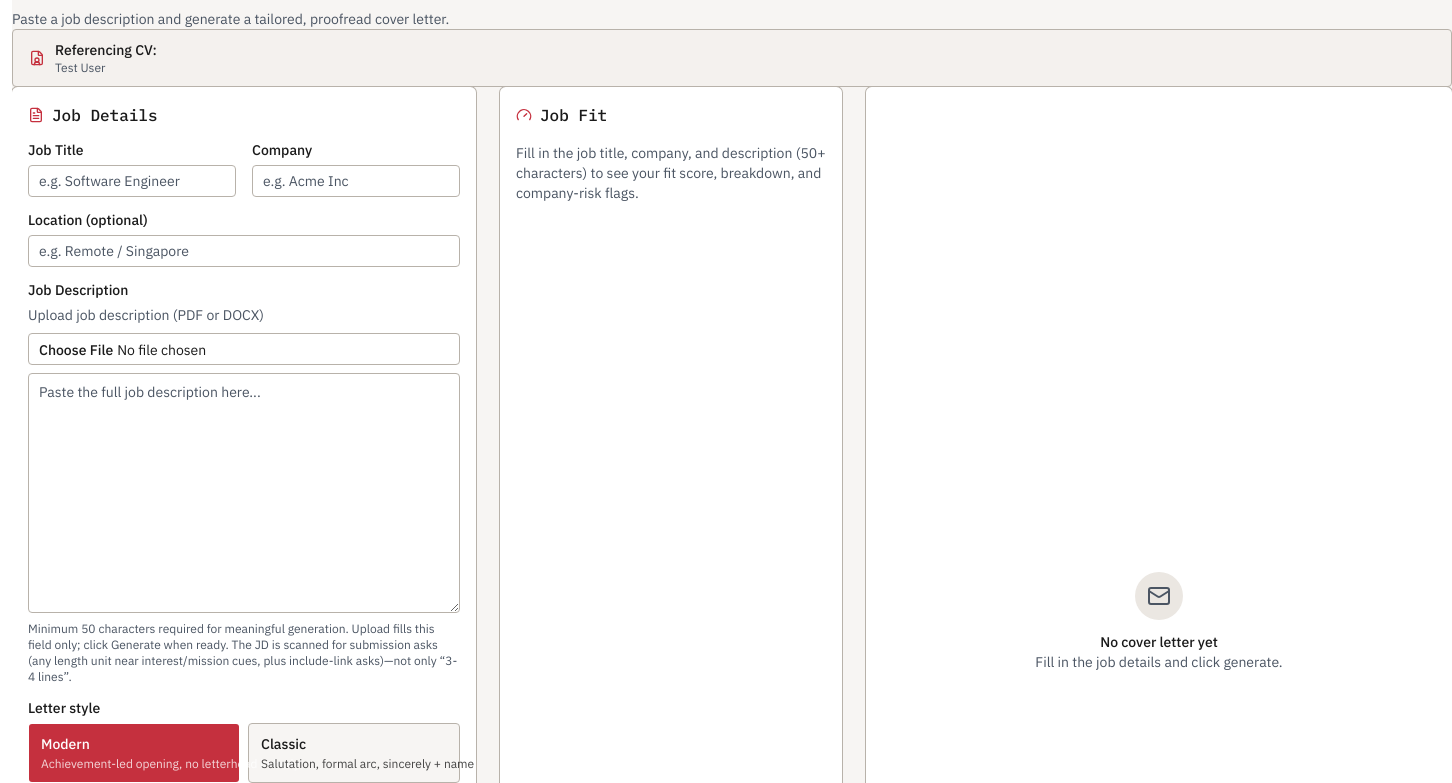
Test: CoverLetterPage › copies the generated cover letter to clipboard
Type "Senior Software Engineer" into the field labelled "Job Title". click: (132, 181)
box: [28,165,236,197]
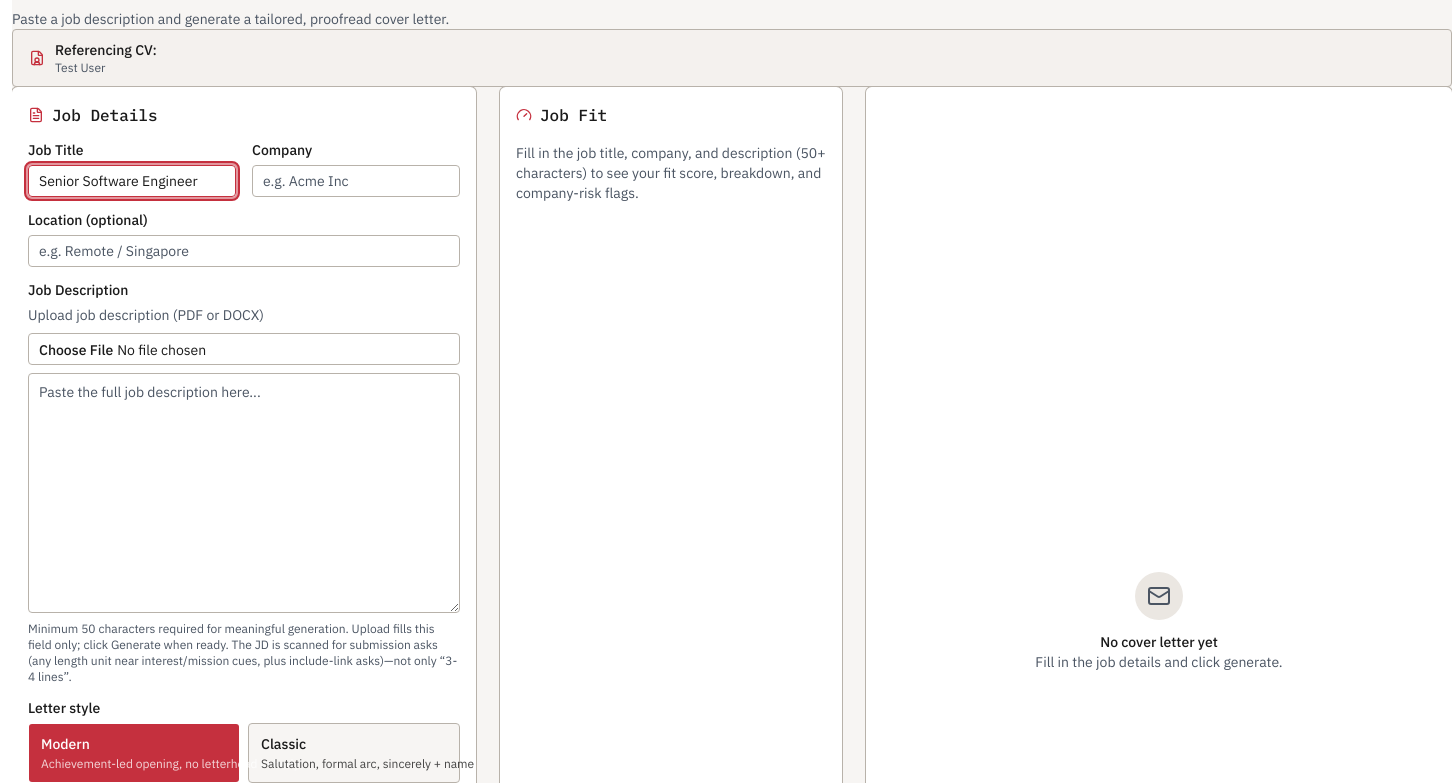
Type "Tech Innovations Inc" into the field labelled "Company". click: (356, 181)
box: [252,165,460,197]
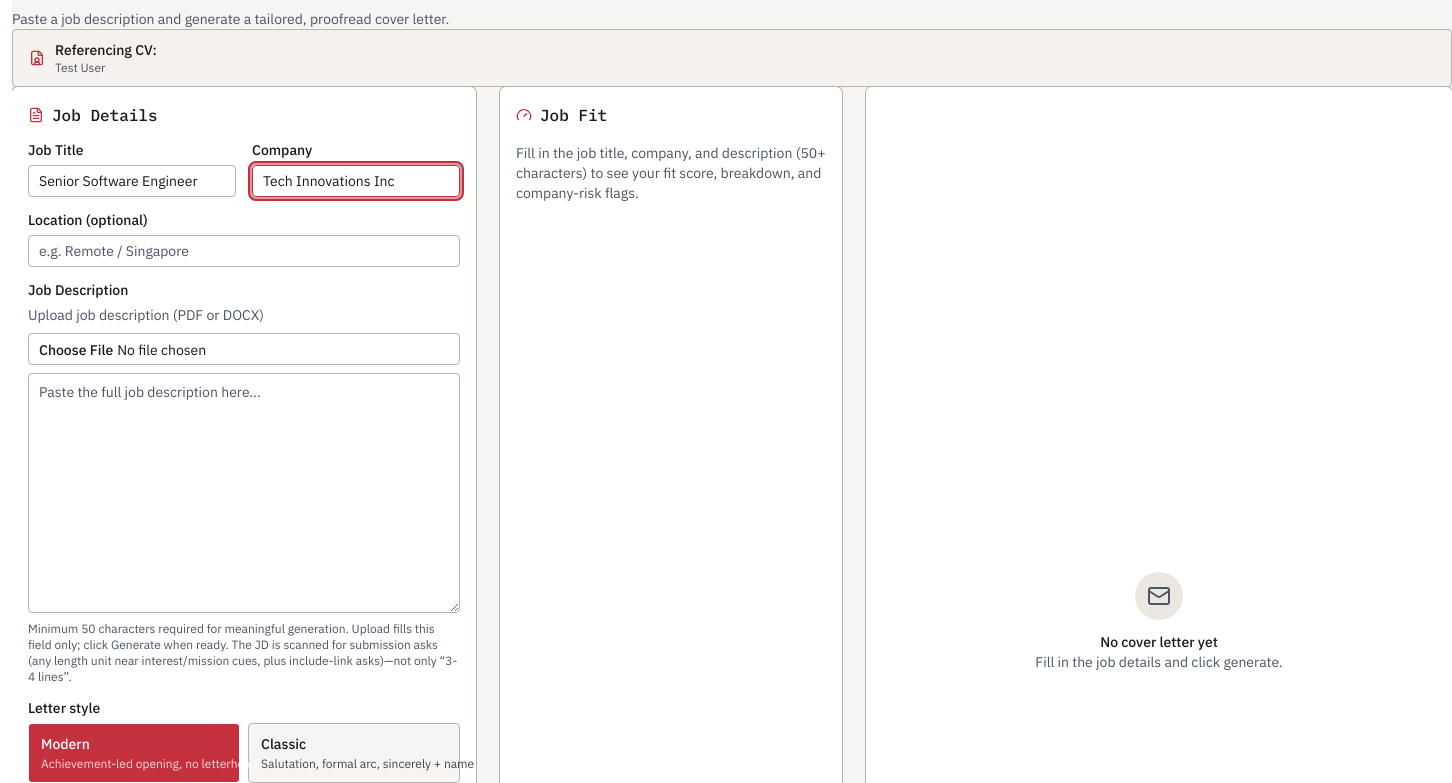
Type "We are seeking a talented Senior Software Engineer with React and TypeScript experience." into the text box labelled "Job Description". click: (244, 493)
box: [28,373,460,613]
(page scrolled)
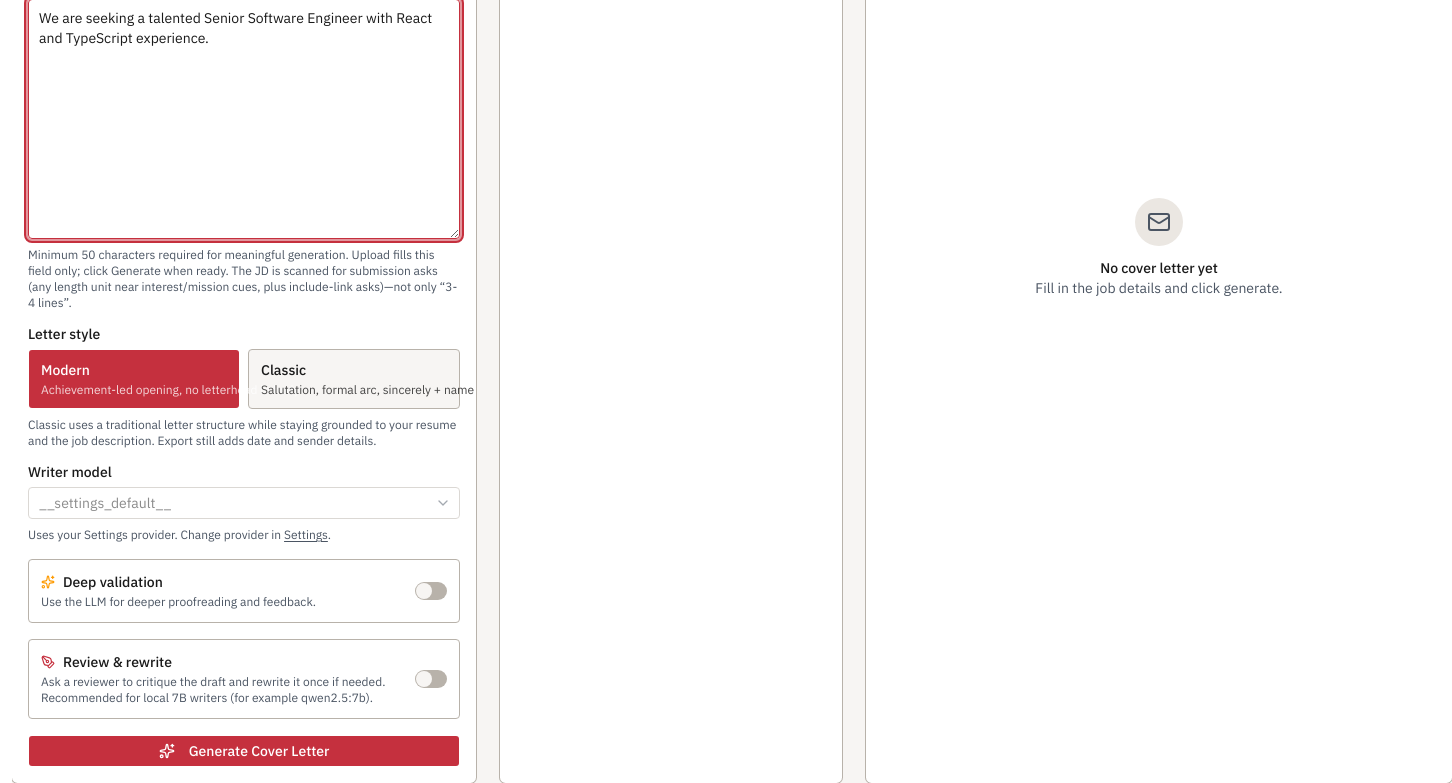
Click the button "Generate Cover Letter". click: (244, 751)
box: [28,735,460,767]
(page scrolled)
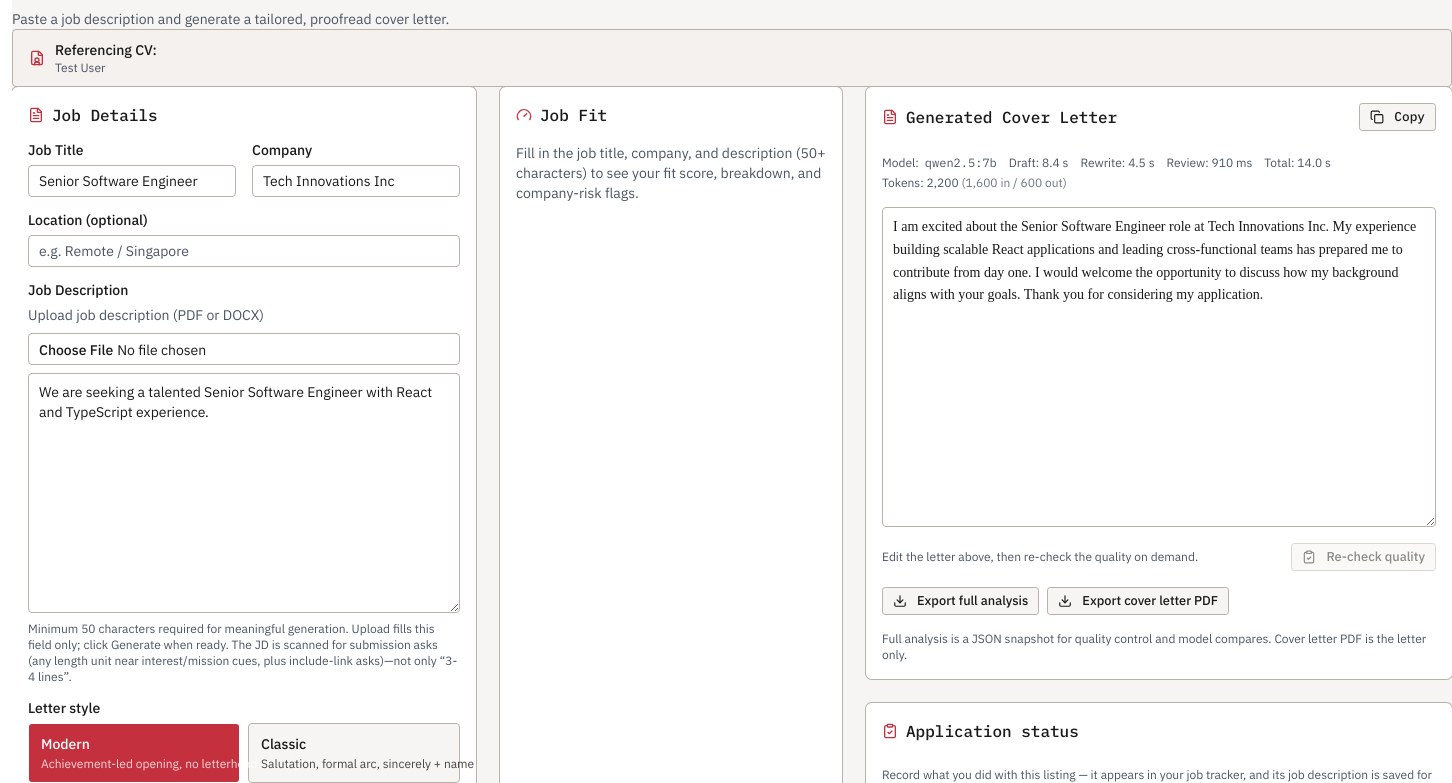
Click the button "Copy". click: (1398, 117)
box: [1359,103,1436,131]
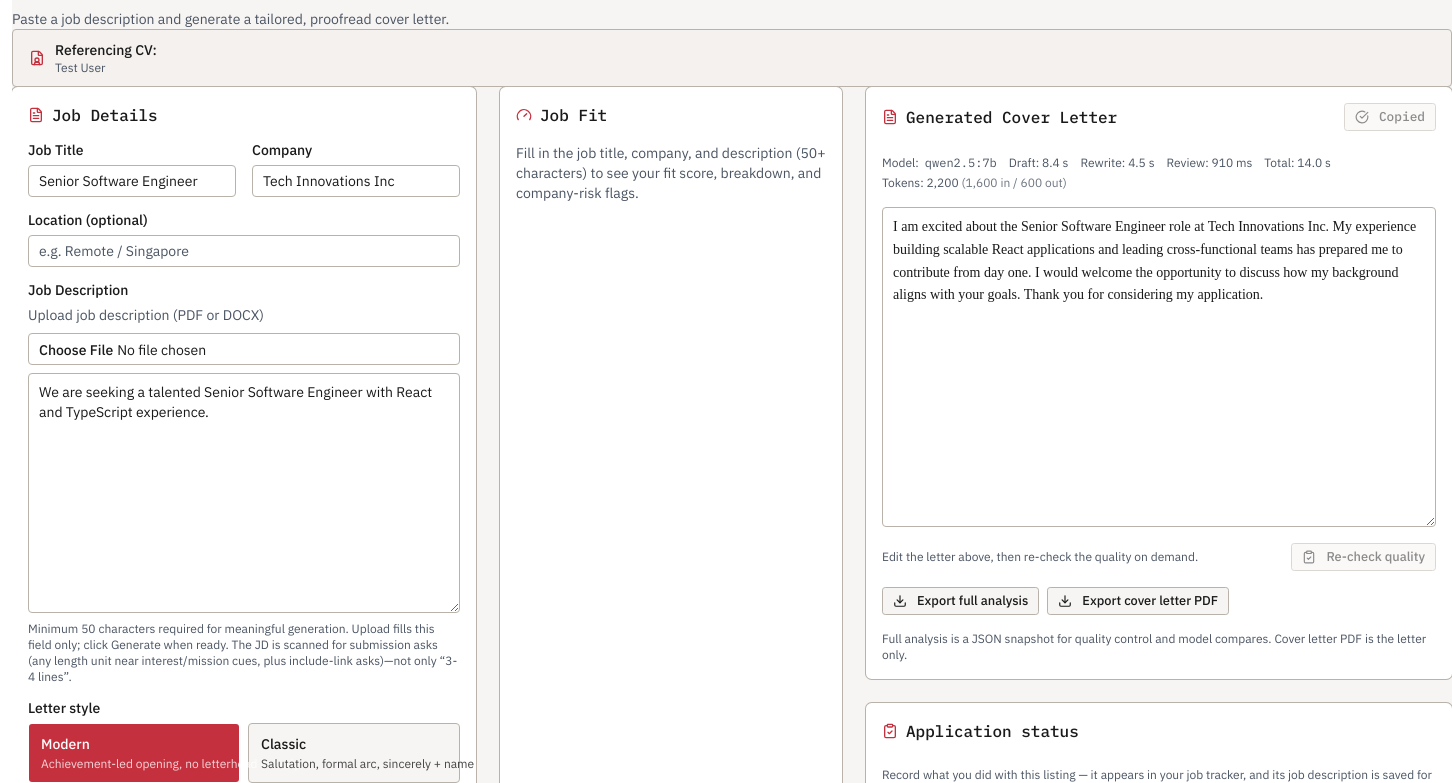
expect the button "Copied" is shown: met, box [1344,103,1436,131]
